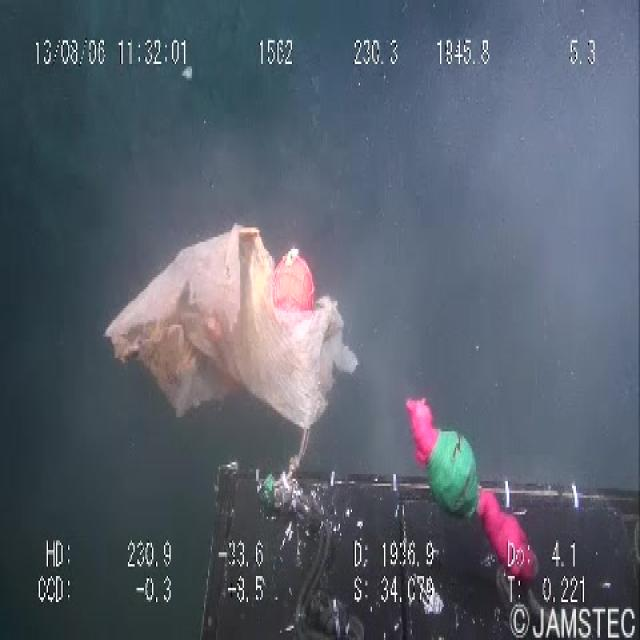plastic: (88, 199, 364, 450)
